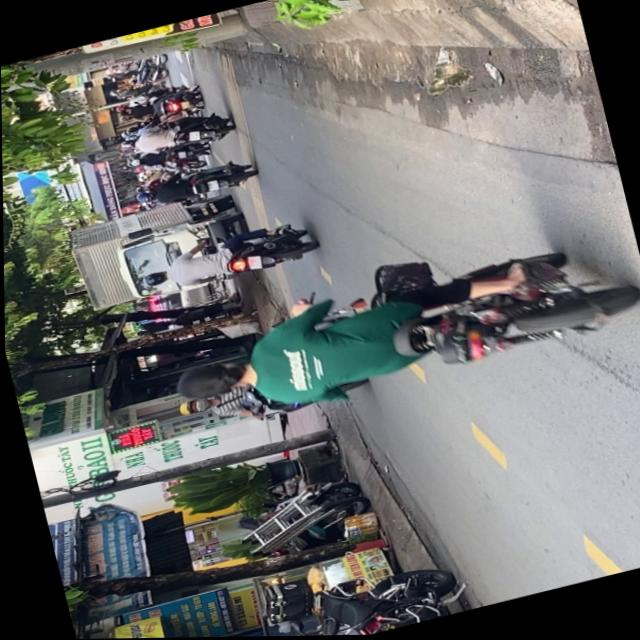helmet: (138, 271, 168, 291)
licenseplate: (153, 219, 640, 446), (132, 216, 319, 302)
motorcyclist: (168, 353, 253, 410)
nohelmet: (244, 256, 261, 273)
